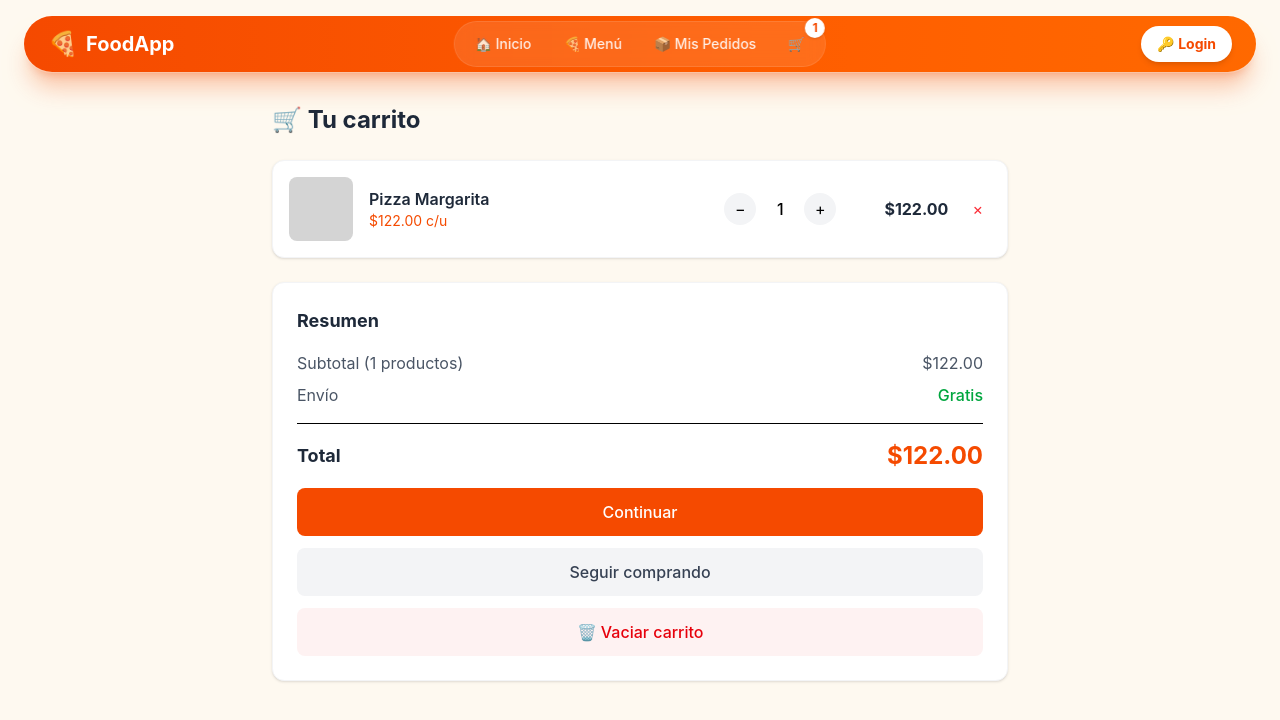
Test: CarritoPage - cantidades y total › elimina el producto al hacer clic en x
Click the button "×" at (978, 209), box [964,197,991,221]
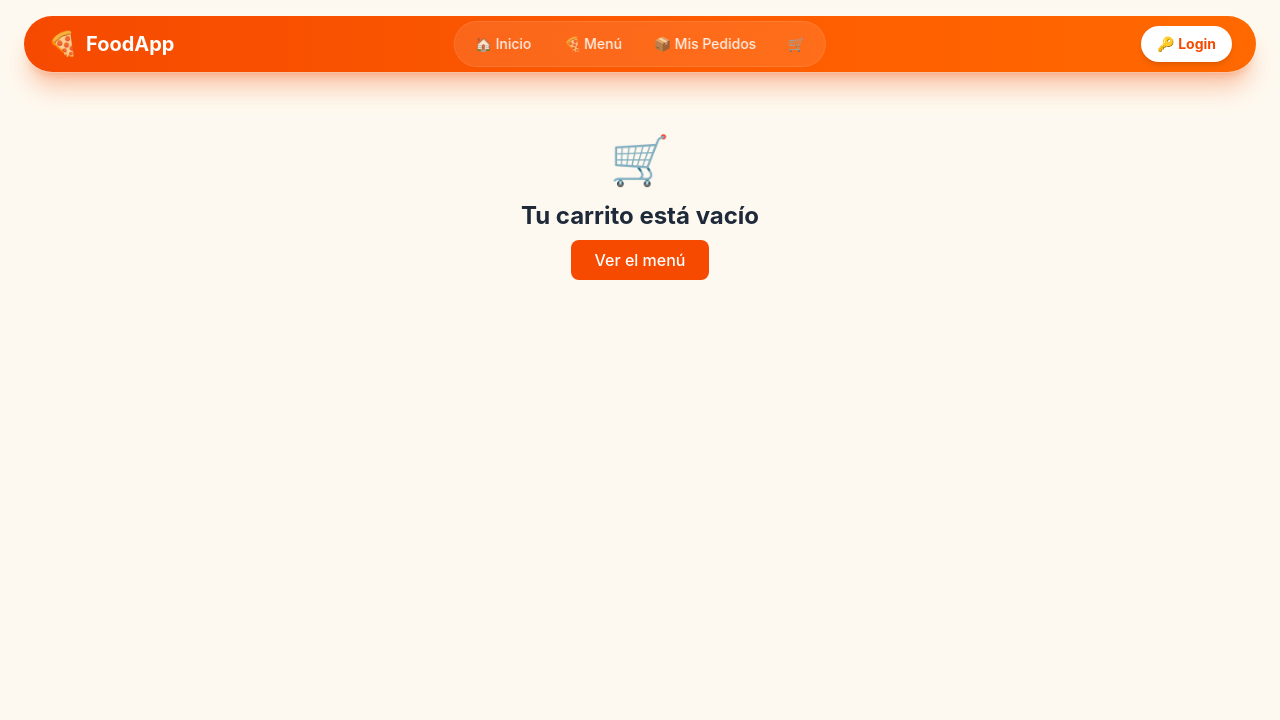
expect the heading "Tu carrito está vacío" is shown: met, box [521,201,759,230]
